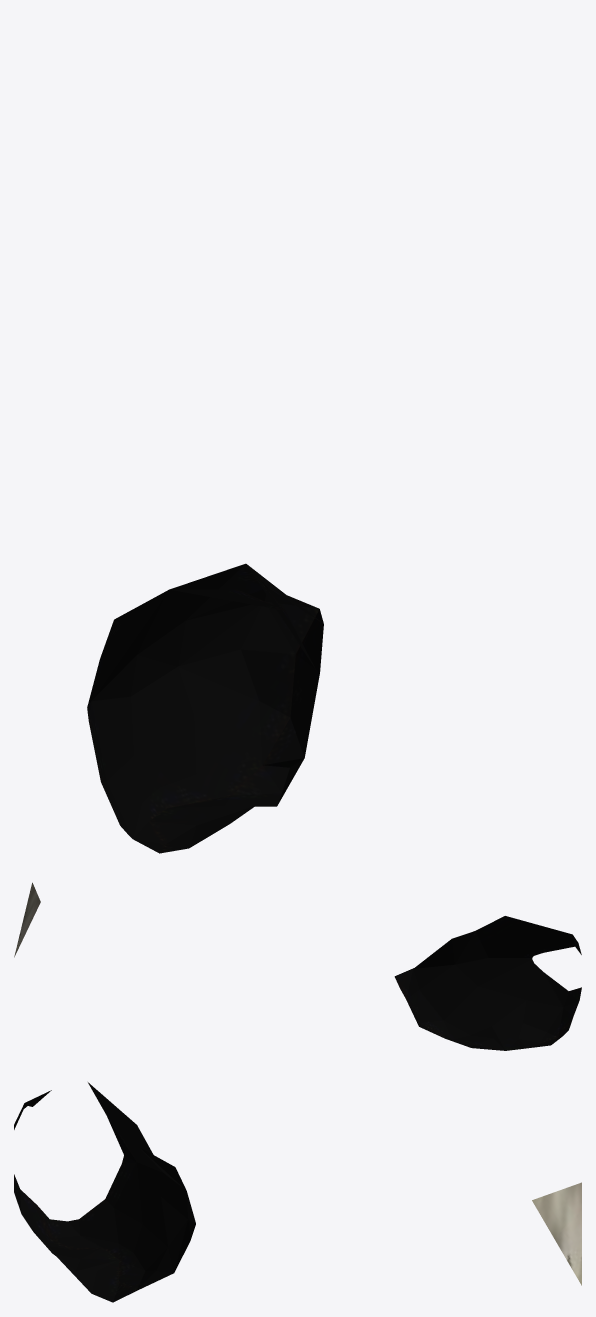
The picture shows the model from 3 angles, top to bottom: view 1: azimuth 30°, elevation 25°; view 2: azimuth 150°, elevation 25°; view 3: azimuth 270°, elevation 25°; orthographic projection. The views are drawn at different scales.
Bounding box in the file's own units: 2.95 × 1.61 × 2.95.
1 material, 1 textured.
